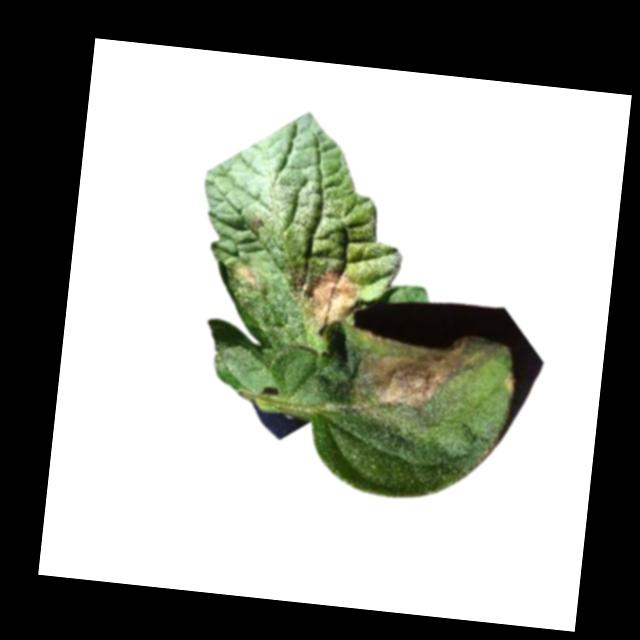Late_blight: (355, 326, 502, 424), (283, 260, 363, 343), (230, 261, 257, 290)
